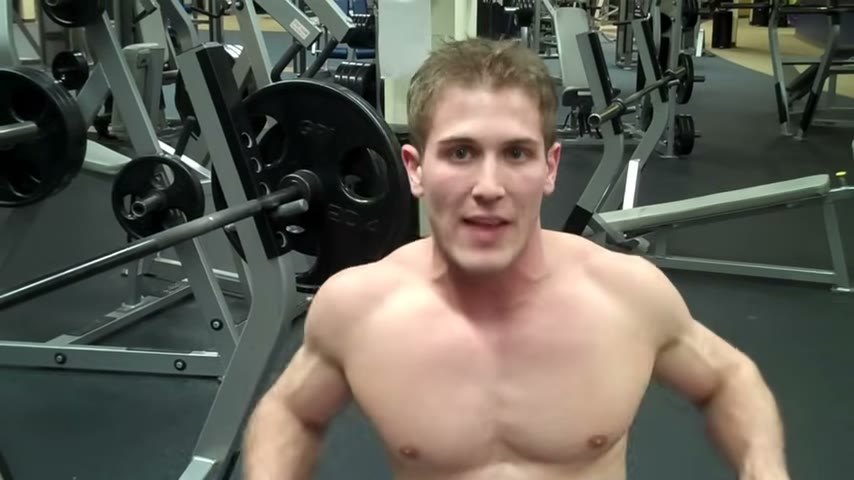barbell_plate_side: (270, 18, 435, 400), (1, 41, 111, 476)
